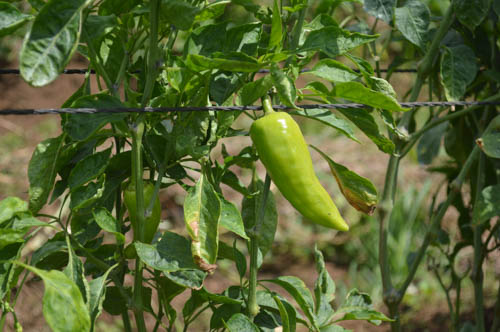ChiliPepper: (254, 116, 347, 236), (122, 186, 162, 264)
